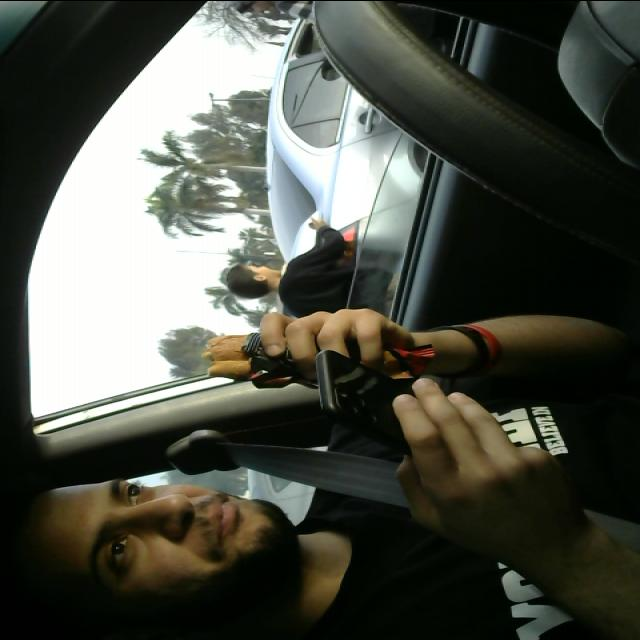eating: (198, 331, 398, 385)
mobile use: (319, 350, 462, 482)
